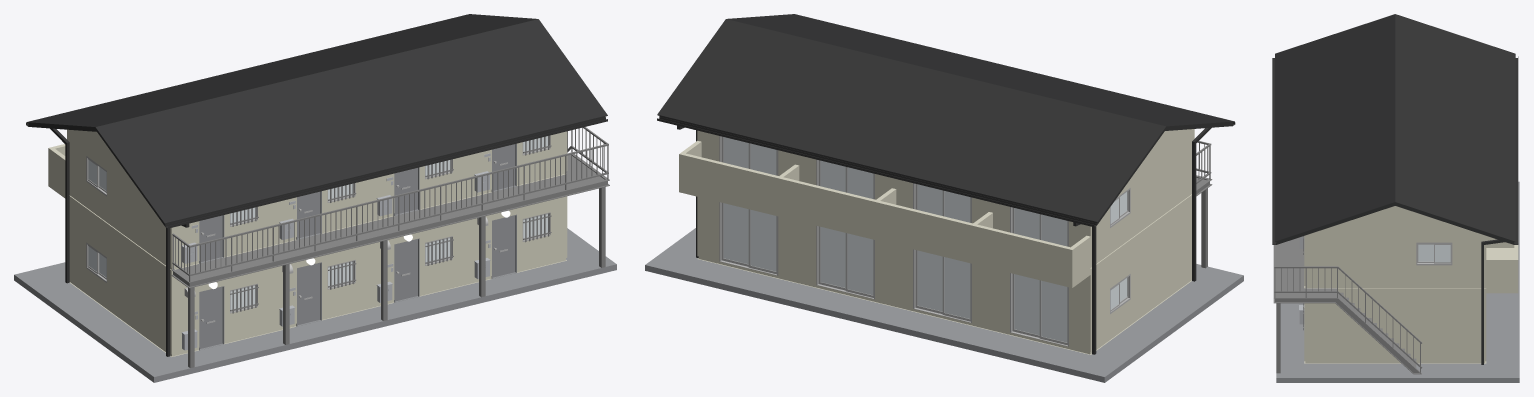
Rendered from apartment.glb.
The picture shows the model from 3 angles, left to right: view 1: azimuth 30°, elevation 25°; view 2: azimuth 150°, elevation 25°; view 3: azimuth 270°, elevation 25°; orthographic projection. The views are drawn at different scales.
Bounding box in the file's own units: 16.6 × 7.02 × 8.85.
